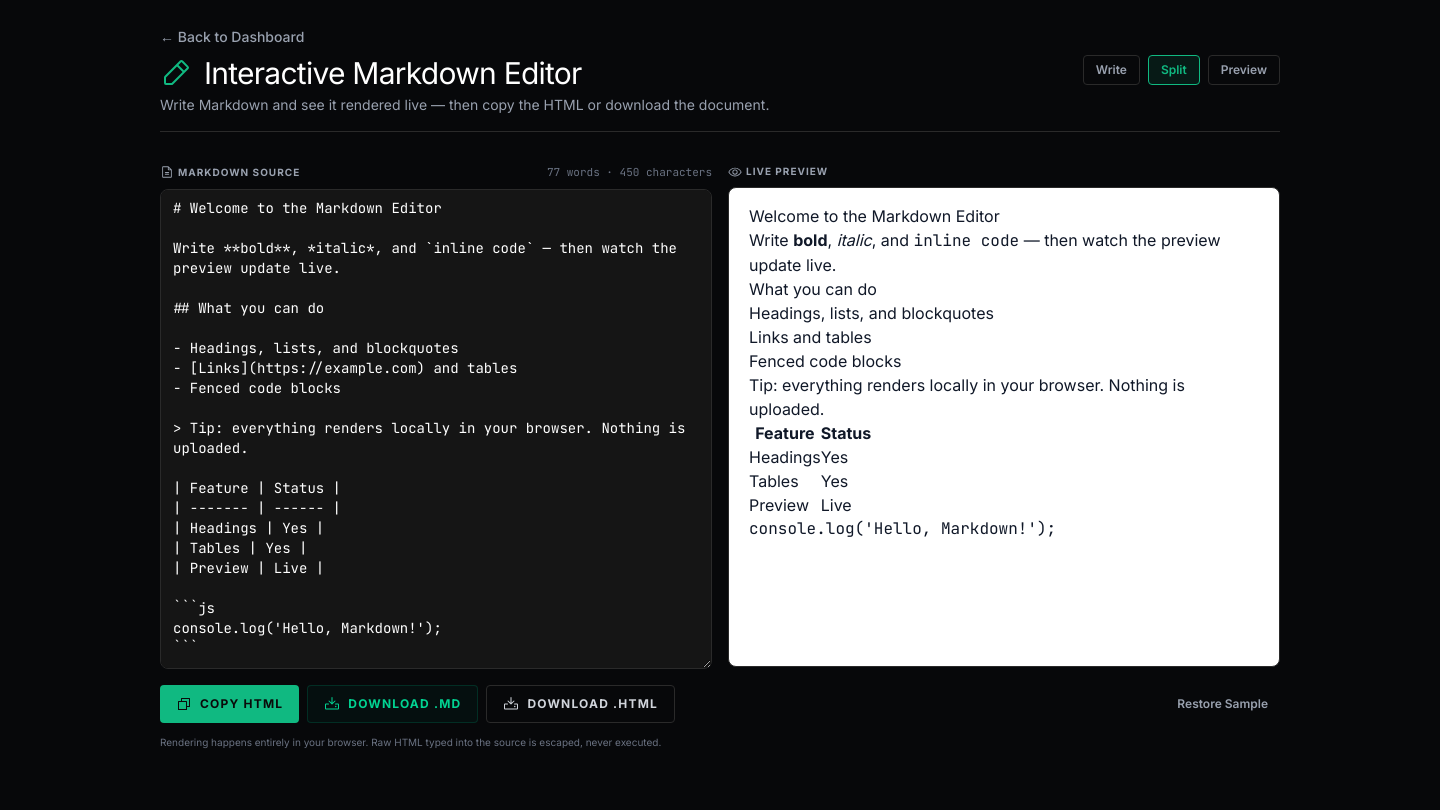
Test: MarkdownEditor › builds a standalone HTML document and shows a live preview
Expected: the heading "Welcome to the Markdown Editor" is shown, [749,206,1000,226]
Expected: the table is shown, [749,421,871,517]
Replace the text in the text box labelled "Markdown Source" with "# Fresh Title" at x=436, y=428, box [160,188,712,668]
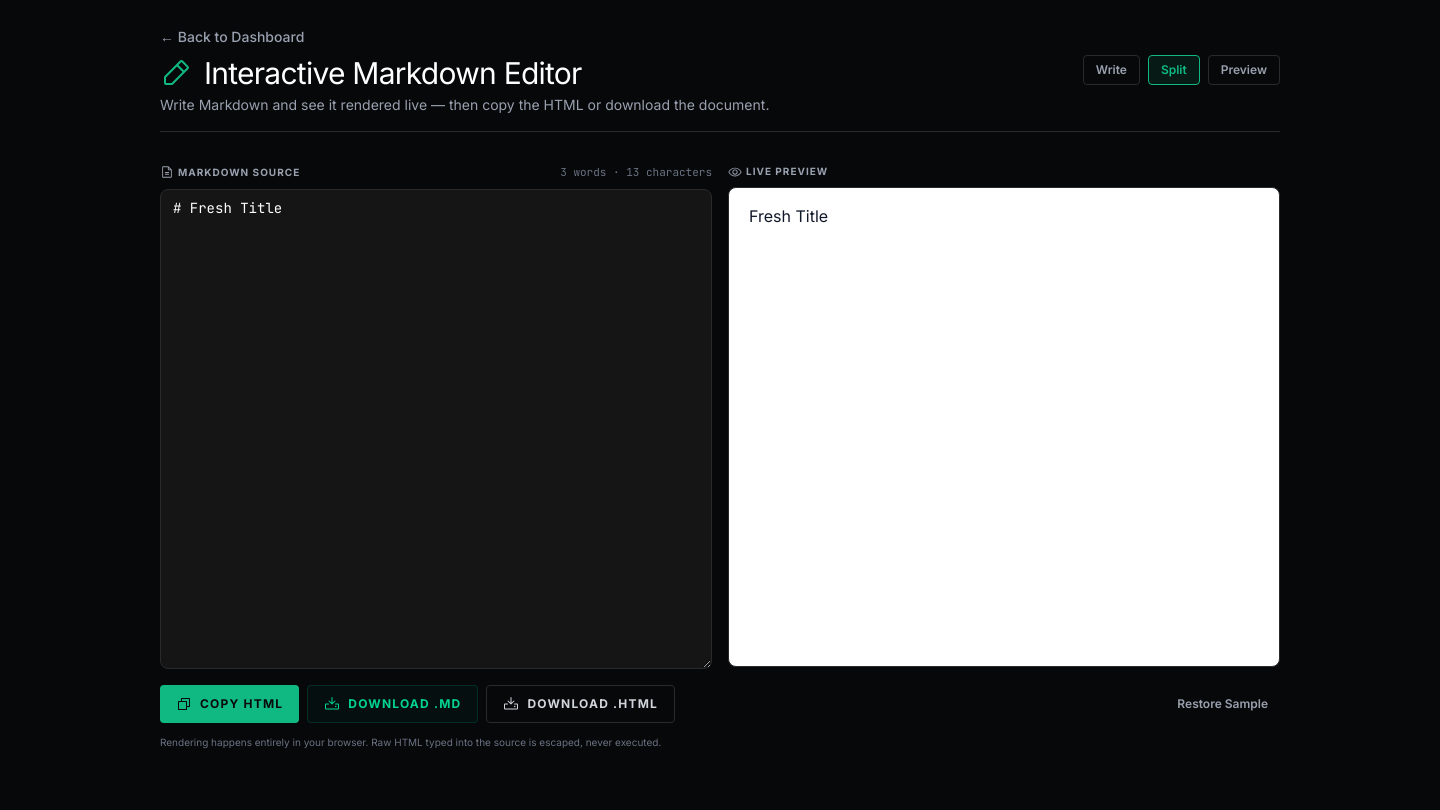
Now the heading "Fresh Title" is shown, box [749,206,828,226]
